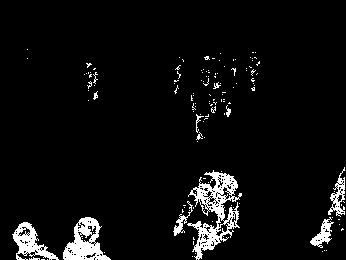person: (309, 155, 346, 246), (62, 214, 110, 260), (10, 221, 60, 260)
